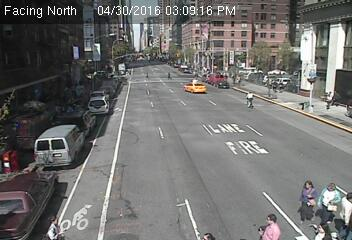neg: (176, 196, 192, 217), (290, 93, 305, 114), (157, 182, 172, 202), (242, 88, 256, 107), (119, 88, 133, 107), (120, 176, 133, 193), (243, 177, 255, 193), (43, 122, 54, 137), (101, 151, 112, 166), (227, 146, 238, 161), (318, 140, 329, 155), (301, 127, 311, 142), (198, 124, 208, 138), (159, 97, 169, 111), (117, 124, 127, 138), (136, 151, 146, 164), (245, 121, 255, 134), (271, 104, 281, 117), (114, 210, 124, 222), (83, 190, 92, 203), (205, 175, 214, 187), (259, 145, 268, 157), (53, 90, 61, 101), (154, 122, 162, 133), (109, 96, 117, 107), (77, 212, 85, 223), (208, 76, 216, 86), (270, 75, 278, 85), (83, 110, 90, 119), (17, 119, 24, 128), (187, 78, 193, 87), (252, 71, 258, 80), (95, 93, 101, 101), (183, 170, 189, 177), (227, 74, 232, 80), (73, 149, 77, 154)
pos: (289, 179, 323, 225), (313, 177, 346, 220), (334, 188, 351, 228), (258, 212, 277, 238), (42, 214, 60, 238), (322, 86, 338, 107), (164, 69, 173, 82), (141, 70, 150, 81)
